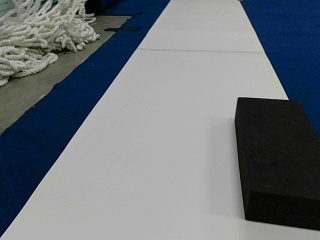block: (236, 96, 319, 230)
